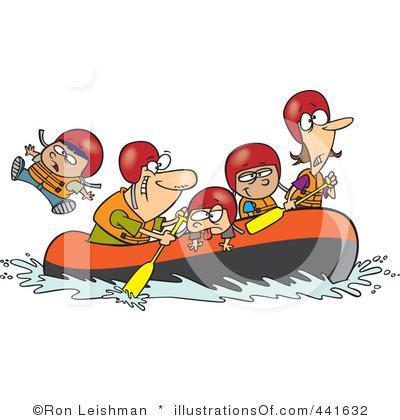boat: (32, 202, 365, 299)
person: (82, 137, 201, 252), (272, 85, 353, 221), (9, 117, 107, 222), (217, 140, 289, 226), (179, 185, 237, 254)
